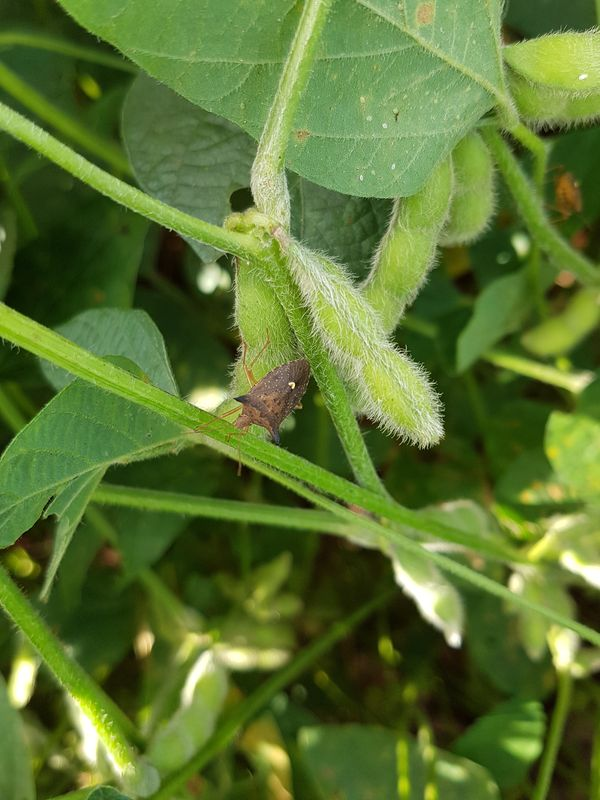Euschistus_heros_adulto: (204, 331, 341, 474)
